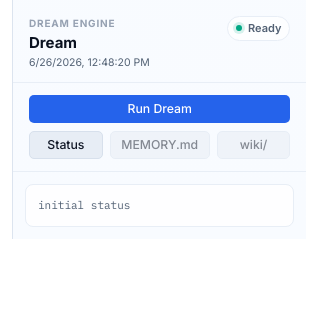
Test: DreamPanel › runs the Dream cycle on Run Dream click and surfaces the output
Expected: the text "initial status" is shown, [25,184,294,227]
Click the button "Run Dream" at [160, 108], box [29,94,290,122]
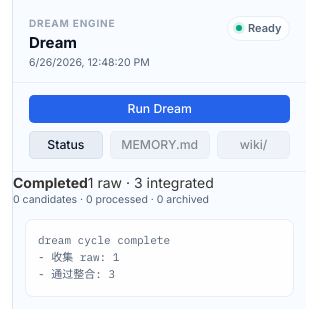
Result: the text "dream cycle complete - 收集 raw: 1 - 通过整合: 3" is shown at [25,218,294,297]
